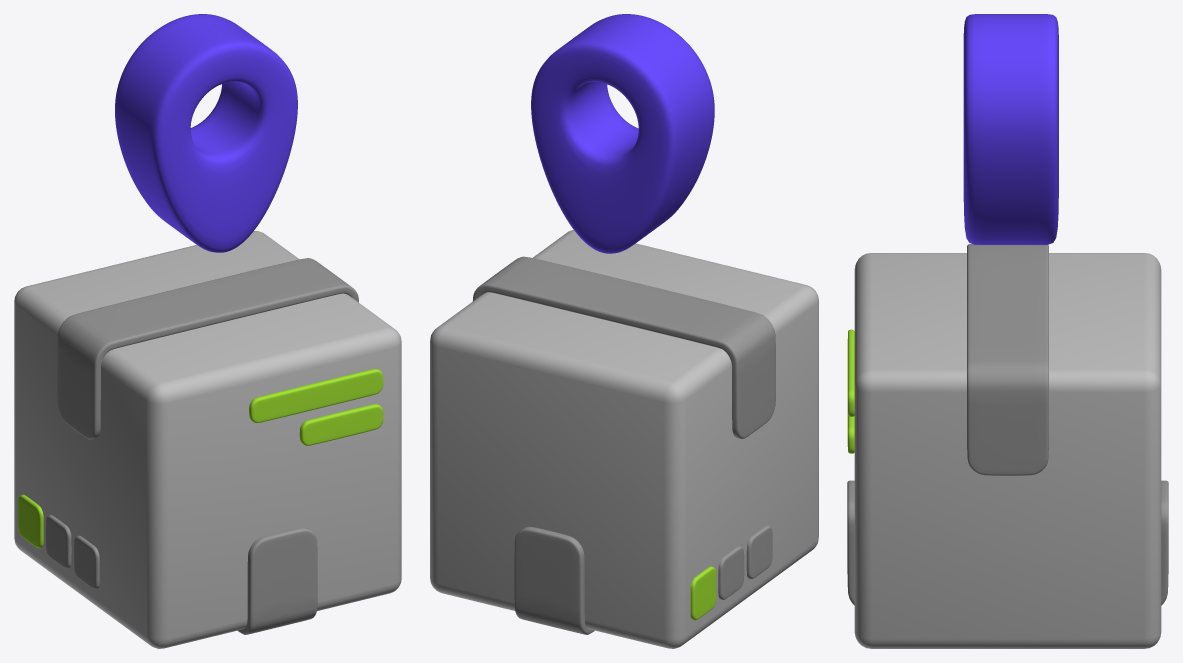
File: track-order-animated-3d-icon-1159161333182.glb
3 views of the same model, side by side, from view 1: azimuth 30°, elevation 25°; view 2: azimuth 150°, elevation 25°; view 3: azimuth 270°, elevation 25° (orthographic). The views are drawn at different scales.
Parts seen in each view (by area): view 1: Box.002, Pin, Tape, Tape.001, Detail 2, Detail 1; view 2: Box.002, Pin, Tape, Tape.001, Detail 1; view 3: Box.002, Pin, Tape, Tape.001, Detail 2.
Boxes of the visible parts, x1,y1,x2,y2 form: Box.002: [14, 231, 401, 648]; Pin: [115, 14, 297, 252]; Tape: [57, 258, 358, 439]; Tape.001: [237, 527, 317, 634]; Detail 2: [249, 369, 383, 445]; Detail 1: [18, 494, 99, 589]; Box.002: [430, 230, 818, 648]; Pin: [531, 14, 714, 253]; Tape: [472, 256, 775, 438]; Tape.001: [514, 526, 594, 634]; Detail 1: [690, 525, 772, 620]; Box.002: [854, 253, 1161, 648]; Pin: [963, 14, 1058, 244]; Tape: [967, 244, 1048, 475]; Tape.001: [847, 480, 1168, 605]; Detail 2: [847, 329, 854, 453].
Size of the model in its own units: 1.49 by 2.93 by 1.49.
